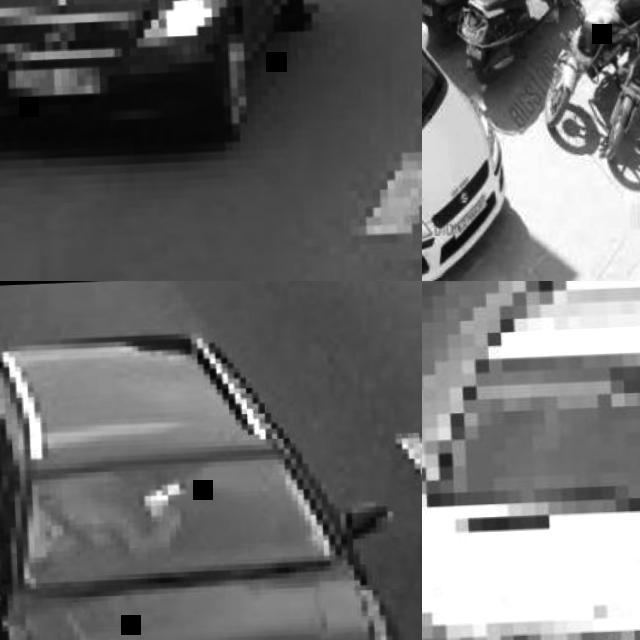car: (0, 0, 248, 149), (460, 2, 556, 83)
